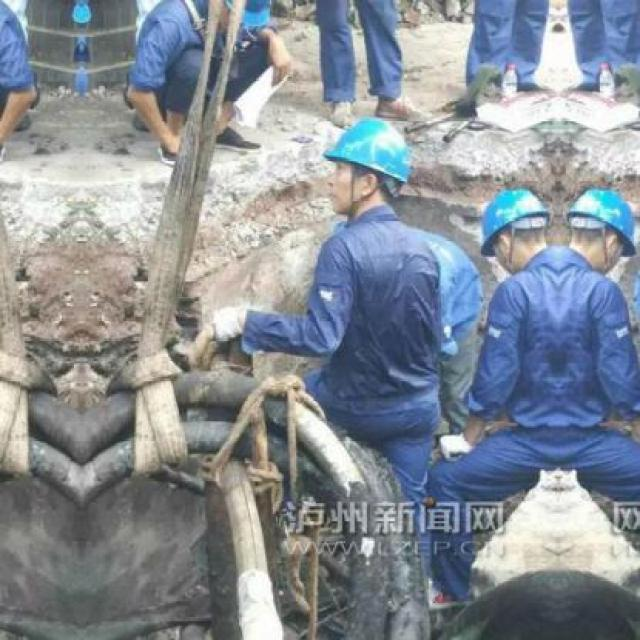helmet: (318, 113, 421, 224), (472, 180, 546, 274), (567, 180, 637, 275)
